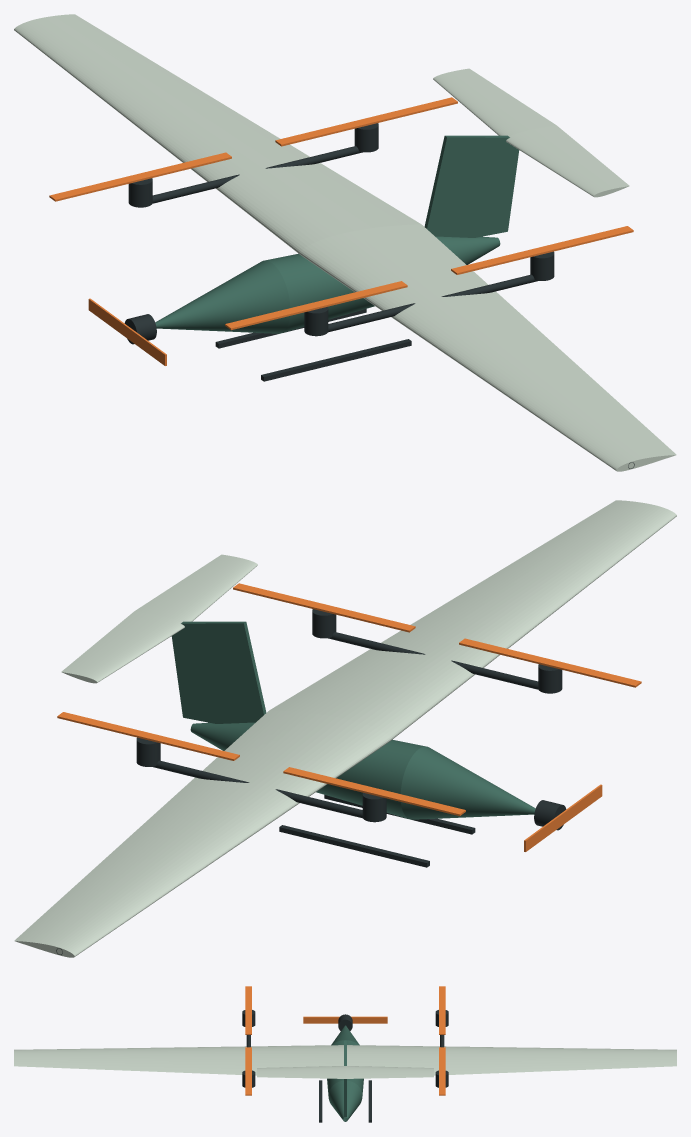
3 views of the same model, one above another, from view 1: azimuth 30°, elevation 25°; view 2: azimuth 150°, elevation 25°; view 3: azimuth 270°, elevation 25° (orthographic). The views are drawn at different scales.
Parts seen in each view (by area): view 1: wing-1, wing1, fuselage, fin, tail-1, tail1, prop_-1_180.0, prop_1_180.0, prop_-1_700.0, prop_1_700.0, boom-1, boom1 (+2 smaller); view 2: wing1, wing-1, fuselage, fin, tail1, tail-1, prop_1_180.0, prop_-1_180.0, prop_-1_700.0, prop_1_700.0, boom1, boom-1 (+2 smaller); view 3: wing-1, wing1, fuselage, tail-1, tail1, cruise_prop, prop_-1_180.0, prop_-1_700.0, prop_1_180.0, prop_1_700.0.
Part boxes in pixels (x1,y1,x2,y2): wing-1: [300, 224, 676, 471]; wing1: [14, 14, 420, 254]; fuselage: [155, 236, 500, 333]; fin: [424, 135, 519, 237]; tail-1: [506, 125, 629, 197]; tail1: [433, 68, 555, 136]; prop_-1_180.0: [225, 281, 407, 330]; prop_1_180.0: [49, 152, 231, 201]; prop_-1_700.0: [451, 226, 633, 274]; prop_1_700.0: [275, 97, 457, 146]; boom-1: [328, 274, 538, 332]; boom1: [152, 146, 362, 203]; wing1: [14, 710, 390, 957]; wing-1: [270, 500, 676, 740]; fuselage: [190, 722, 535, 819]; fin: [171, 621, 266, 723]; tail1: [61, 611, 184, 683]; tail-1: [135, 554, 257, 622]; prop_1_180.0: [283, 767, 465, 816]; prop_-1_180.0: [459, 638, 641, 687]; prop_-1_700.0: [233, 583, 415, 632]; prop_1_700.0: [57, 712, 239, 760]; boom1: [152, 760, 362, 818]; boom-1: [328, 632, 538, 689]; wing-1: [14, 1045, 343, 1075]; wing1: [347, 1045, 676, 1075]; fuselage: [327, 1025, 363, 1121]; tail-1: [257, 1066, 345, 1078]; tail1: [345, 1066, 433, 1078]; cruise_prop: [303, 1016, 387, 1023]; prop_-1_180.0: [245, 986, 251, 1034]; prop_-1_700.0: [245, 1047, 251, 1095]; prop_1_180.0: [439, 986, 445, 1034]; prop_1_700.0: [439, 1047, 445, 1095].
Size of the model in its own units: 989 by 390 by 2400.
